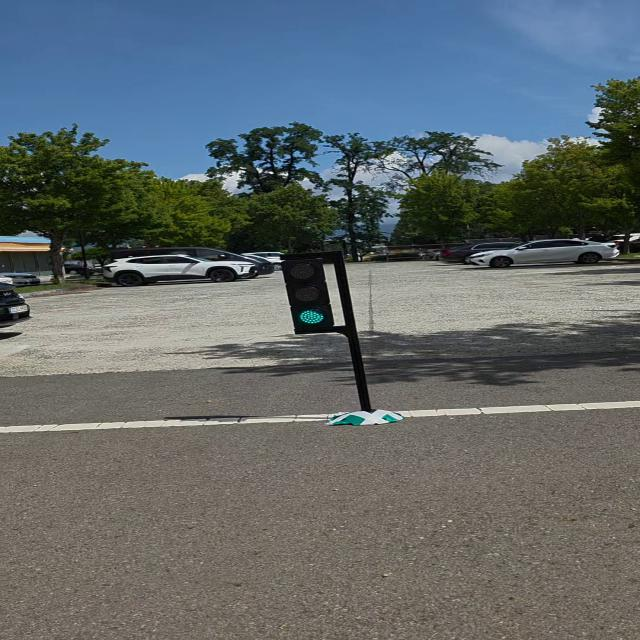green: (283, 254, 336, 333)
